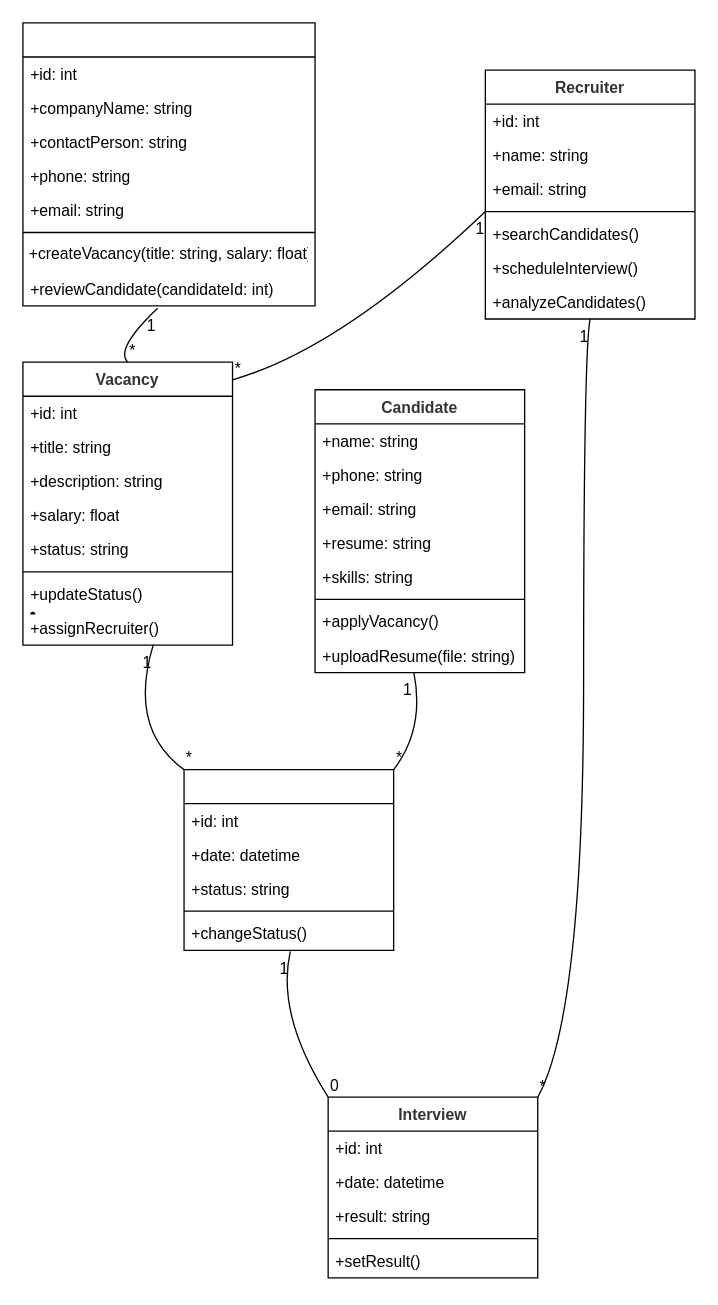
The diagram is 718 pixels wide and 1305 high, and some of its shapes have lost their labels. Each missing label, with the box of its shape:
Application: (183, 768, 394, 950)
Employer: (22, 22, 315, 306)
